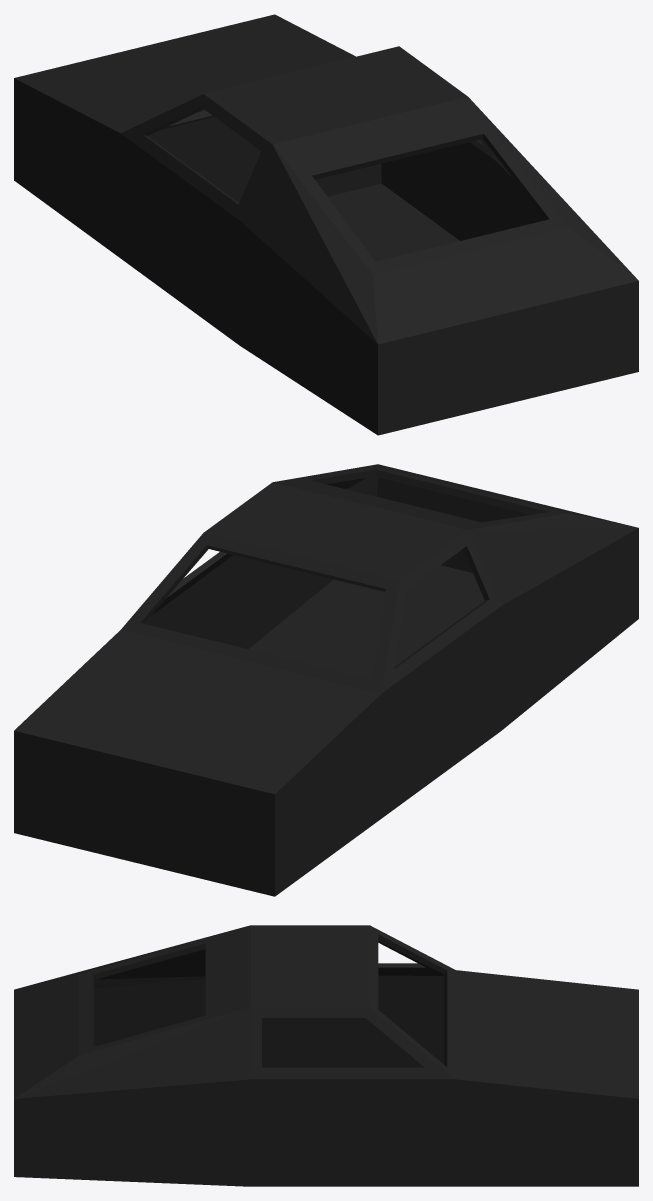
File: turbos.glb
3 views of the same model, one above another, from view 1: azimuth 30°, elevation 25°; view 2: azimuth 150°, elevation 25°; view 3: azimuth 270°, elevation 25° (orthographic). The views are drawn at different scales.
Parts seen in each view (by area): view 1: vehicles/turbos; view 2: vehicles/turbos; view 3: vehicles/turbos.
Boxes of the visible parts, x1,y1,x2,y2 form: vehicles/turbos: (14, 14, 638, 435); vehicles/turbos: (14, 464, 638, 896); vehicles/turbos: (14, 925, 638, 1186).
Bounding box in the file's own units: 1.5 × 1.06 × 3.62.
2 materials, 2 textured.
